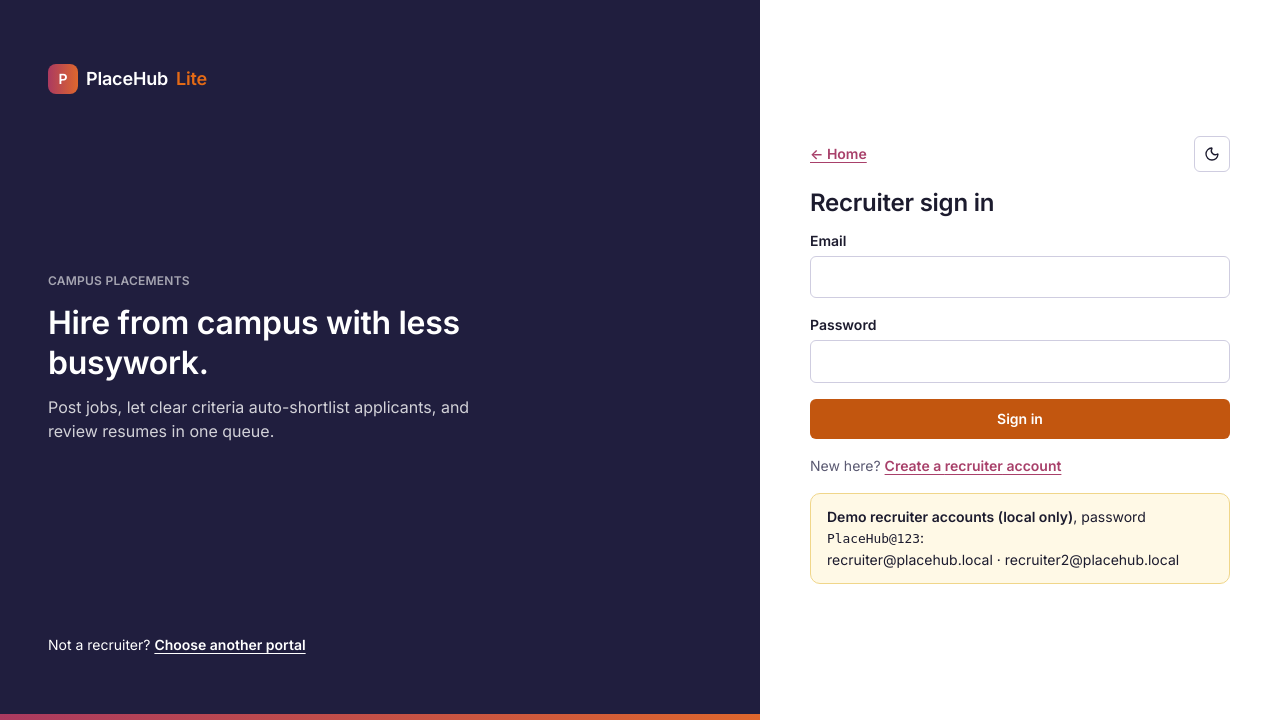
Test case: Login form validation › sends the portal so the API can reject other roles, and shows its message
expect the heading "Recruiter sign in" is shown: met, box [810,188,994,217]
In the field labelled "Email": x=1020, y=277 [810,256,1230,298], type "student@placehub.local"
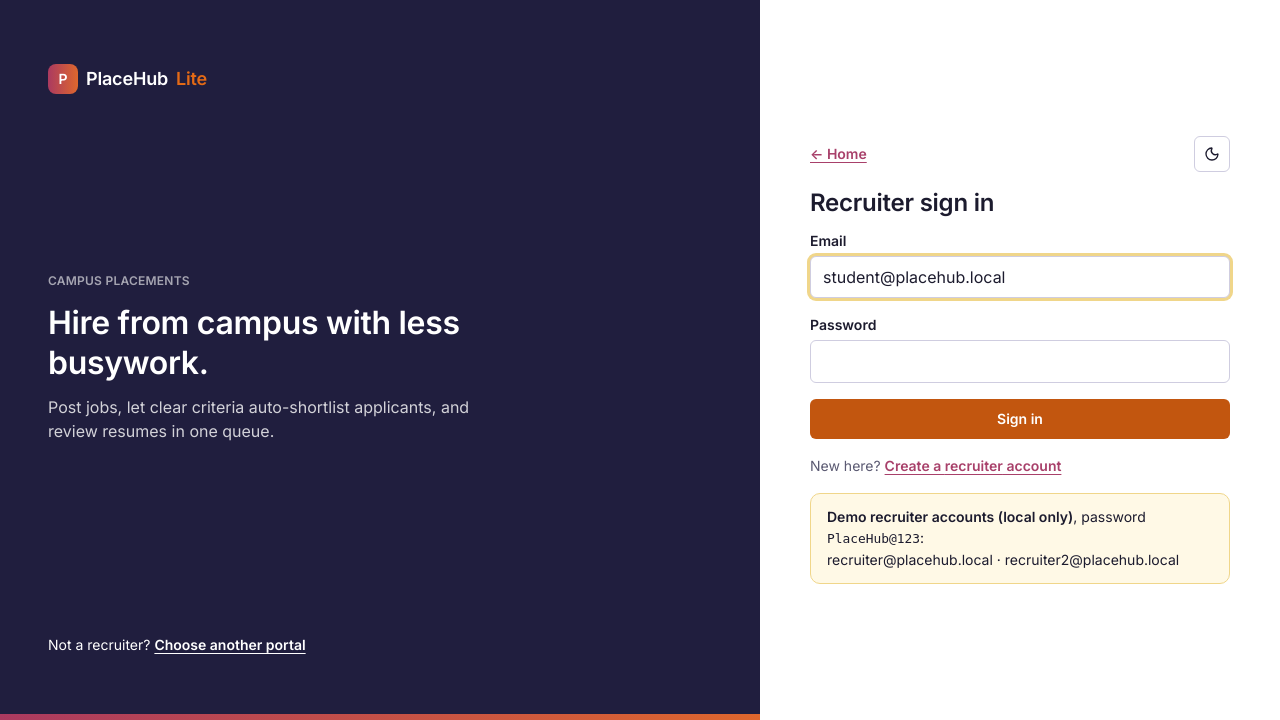
In the password field labelled "Password": x=1020, y=362 [810,340,1230,383], type "PlaceHub@123"
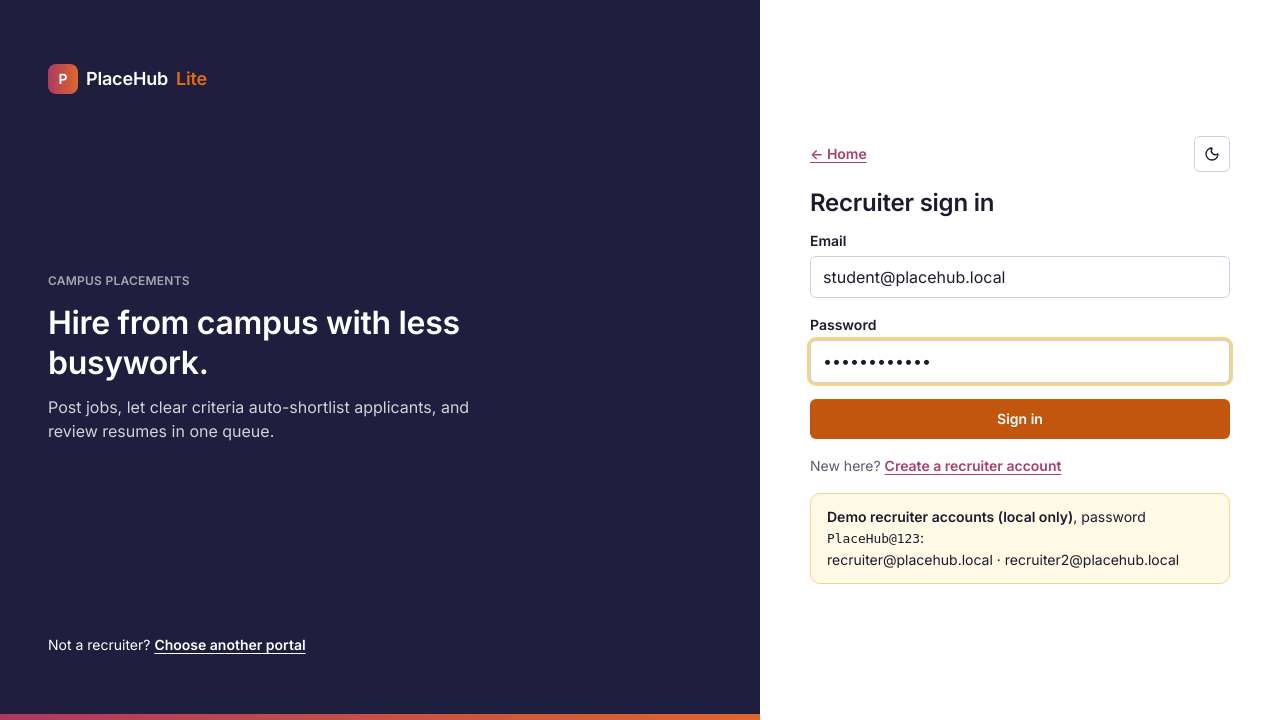
Click the button "Sign in": x=1020, y=419 [810,399,1230,439]
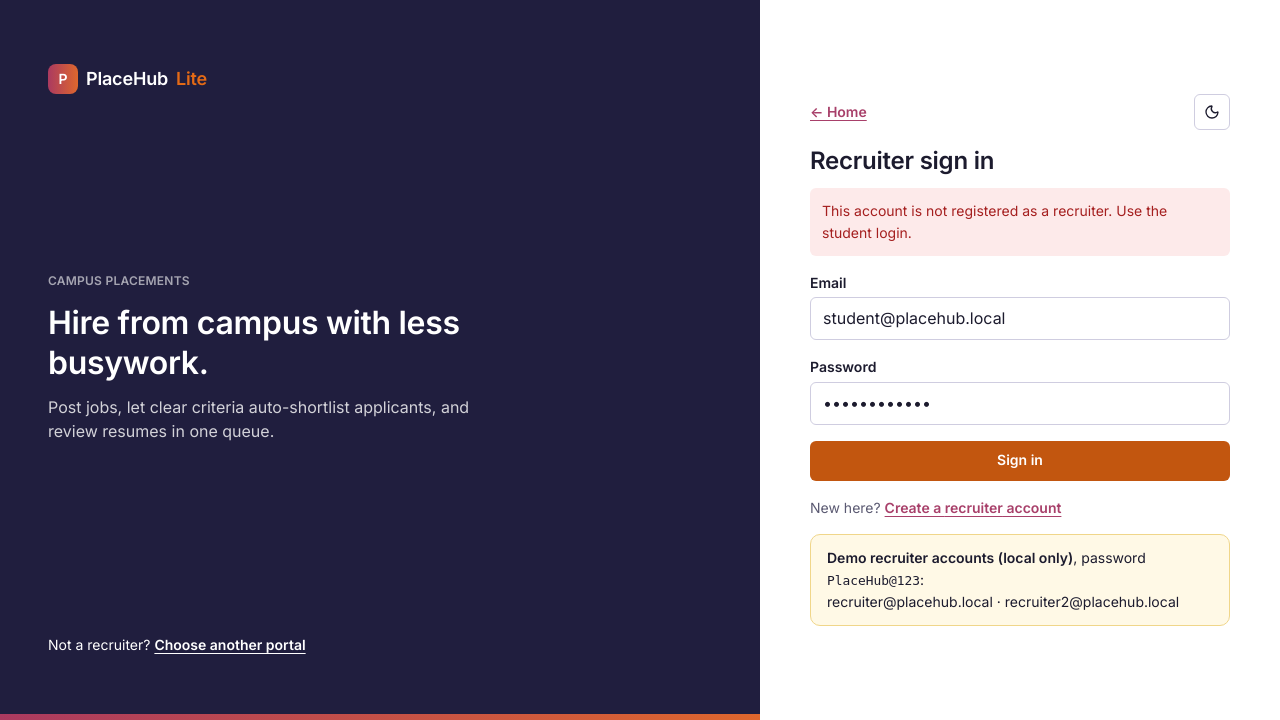
expect the message shows "Use the student login": met, box [822,202,1167,241]
